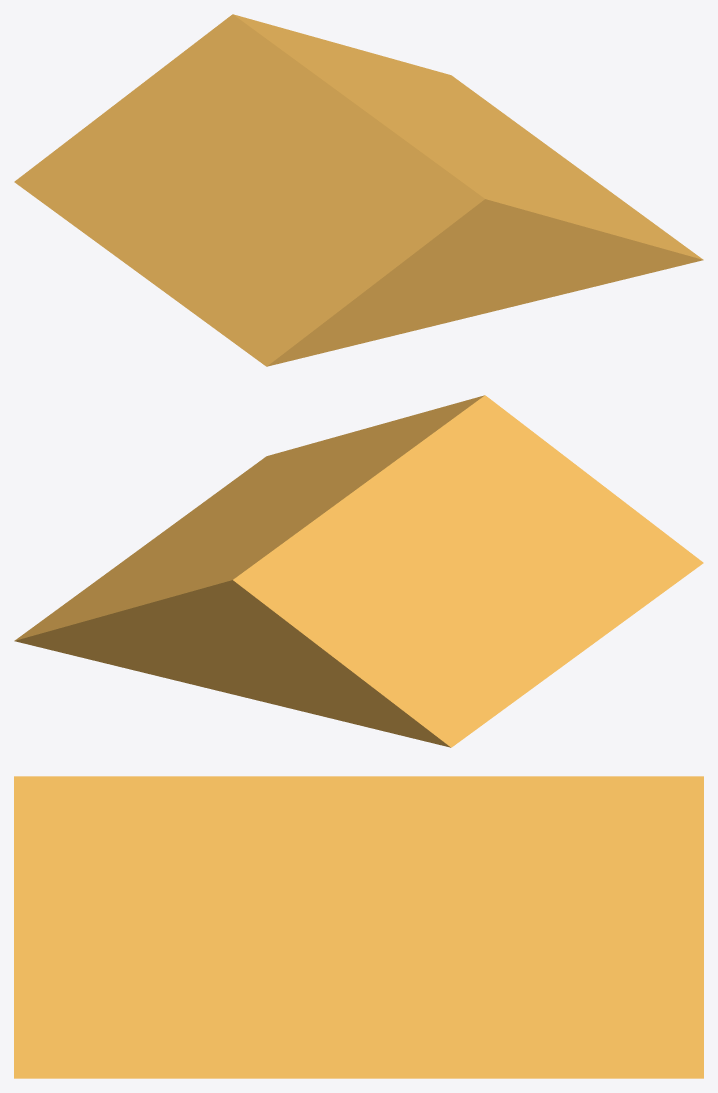
File: Roof-Shallow-4x4x1-Straight-Ridge.FBX
The picture shows the model from 3 angles, top to bottom: view 1: azimuth 30°, elevation 25°; view 2: azimuth 150°, elevation 25°; view 3: azimuth 270°, elevation 25°; orthographic projection. The views are drawn at different scales.
Parts seen in each view (by area): view 1: Roof-Shallow-4x4x1-Straight-Ridge; view 2: Roof-Shallow-4x4x1-Straight-Ridge; view 3: Roof-Shallow-4x4x1-Straight-Ridge.
Part boxes in pixels (x1,y1,x2,y2): Roof-Shallow-4x4x1-Straight-Ridge: (14,14,703,366); Roof-Shallow-4x4x1-Straight-Ridge: (14,395,703,747); Roof-Shallow-4x4x1-Straight-Ridge: (14,776,703,1078).
Size of the model in its own units: 40 by 40 by 10.
